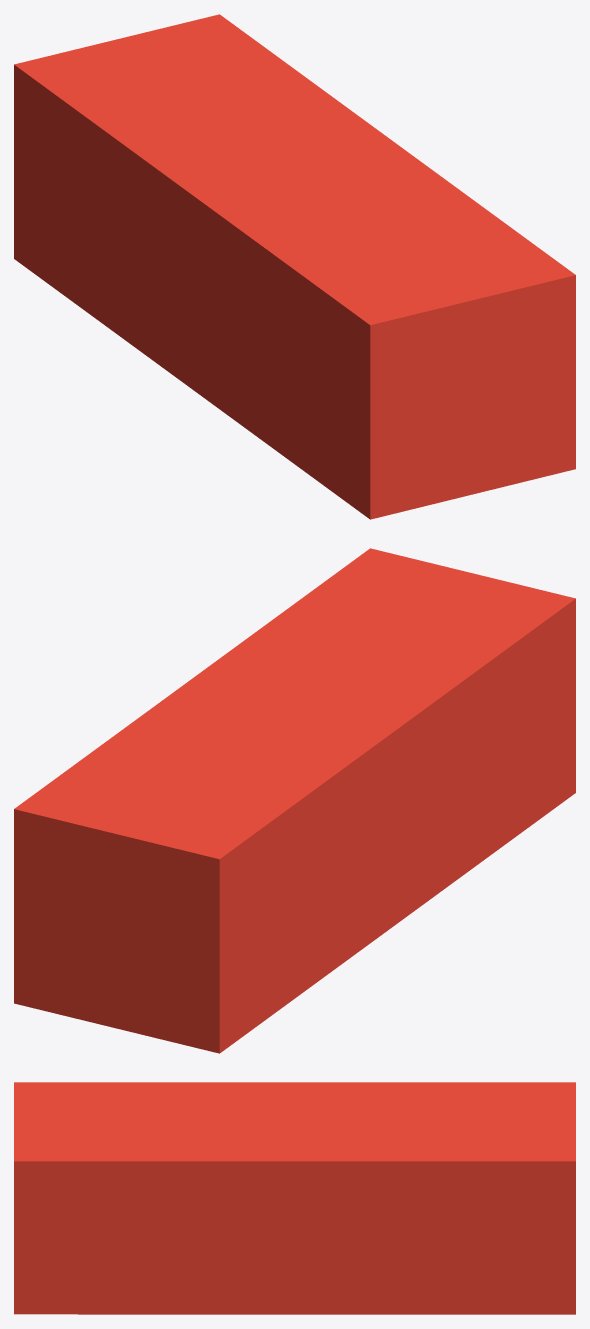
The model's file is Link Block Red.fbx.
3 renders of one model, top to bottom at view 1: azimuth 30°, elevation 25°; view 2: azimuth 150°, elevation 25°; view 3: azimuth 270°, elevation 25°, orthographic. The views are drawn at different scales.
Parts seen in each view (by area): view 1: Link Block Red; view 2: Link Block Red; view 3: Link Block Red.
Part boxes in pixels (box(x1,y1,x2,y2)): Link Block Red: box(14, 14, 575, 519); Link Block Red: box(14, 548, 575, 1053); Link Block Red: box(14, 1082, 575, 1314).
Size of the model in its own units: 100 by 90.3 by 300.
